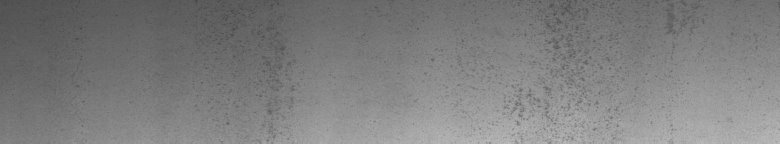ib: (497, 4, 704, 135)
